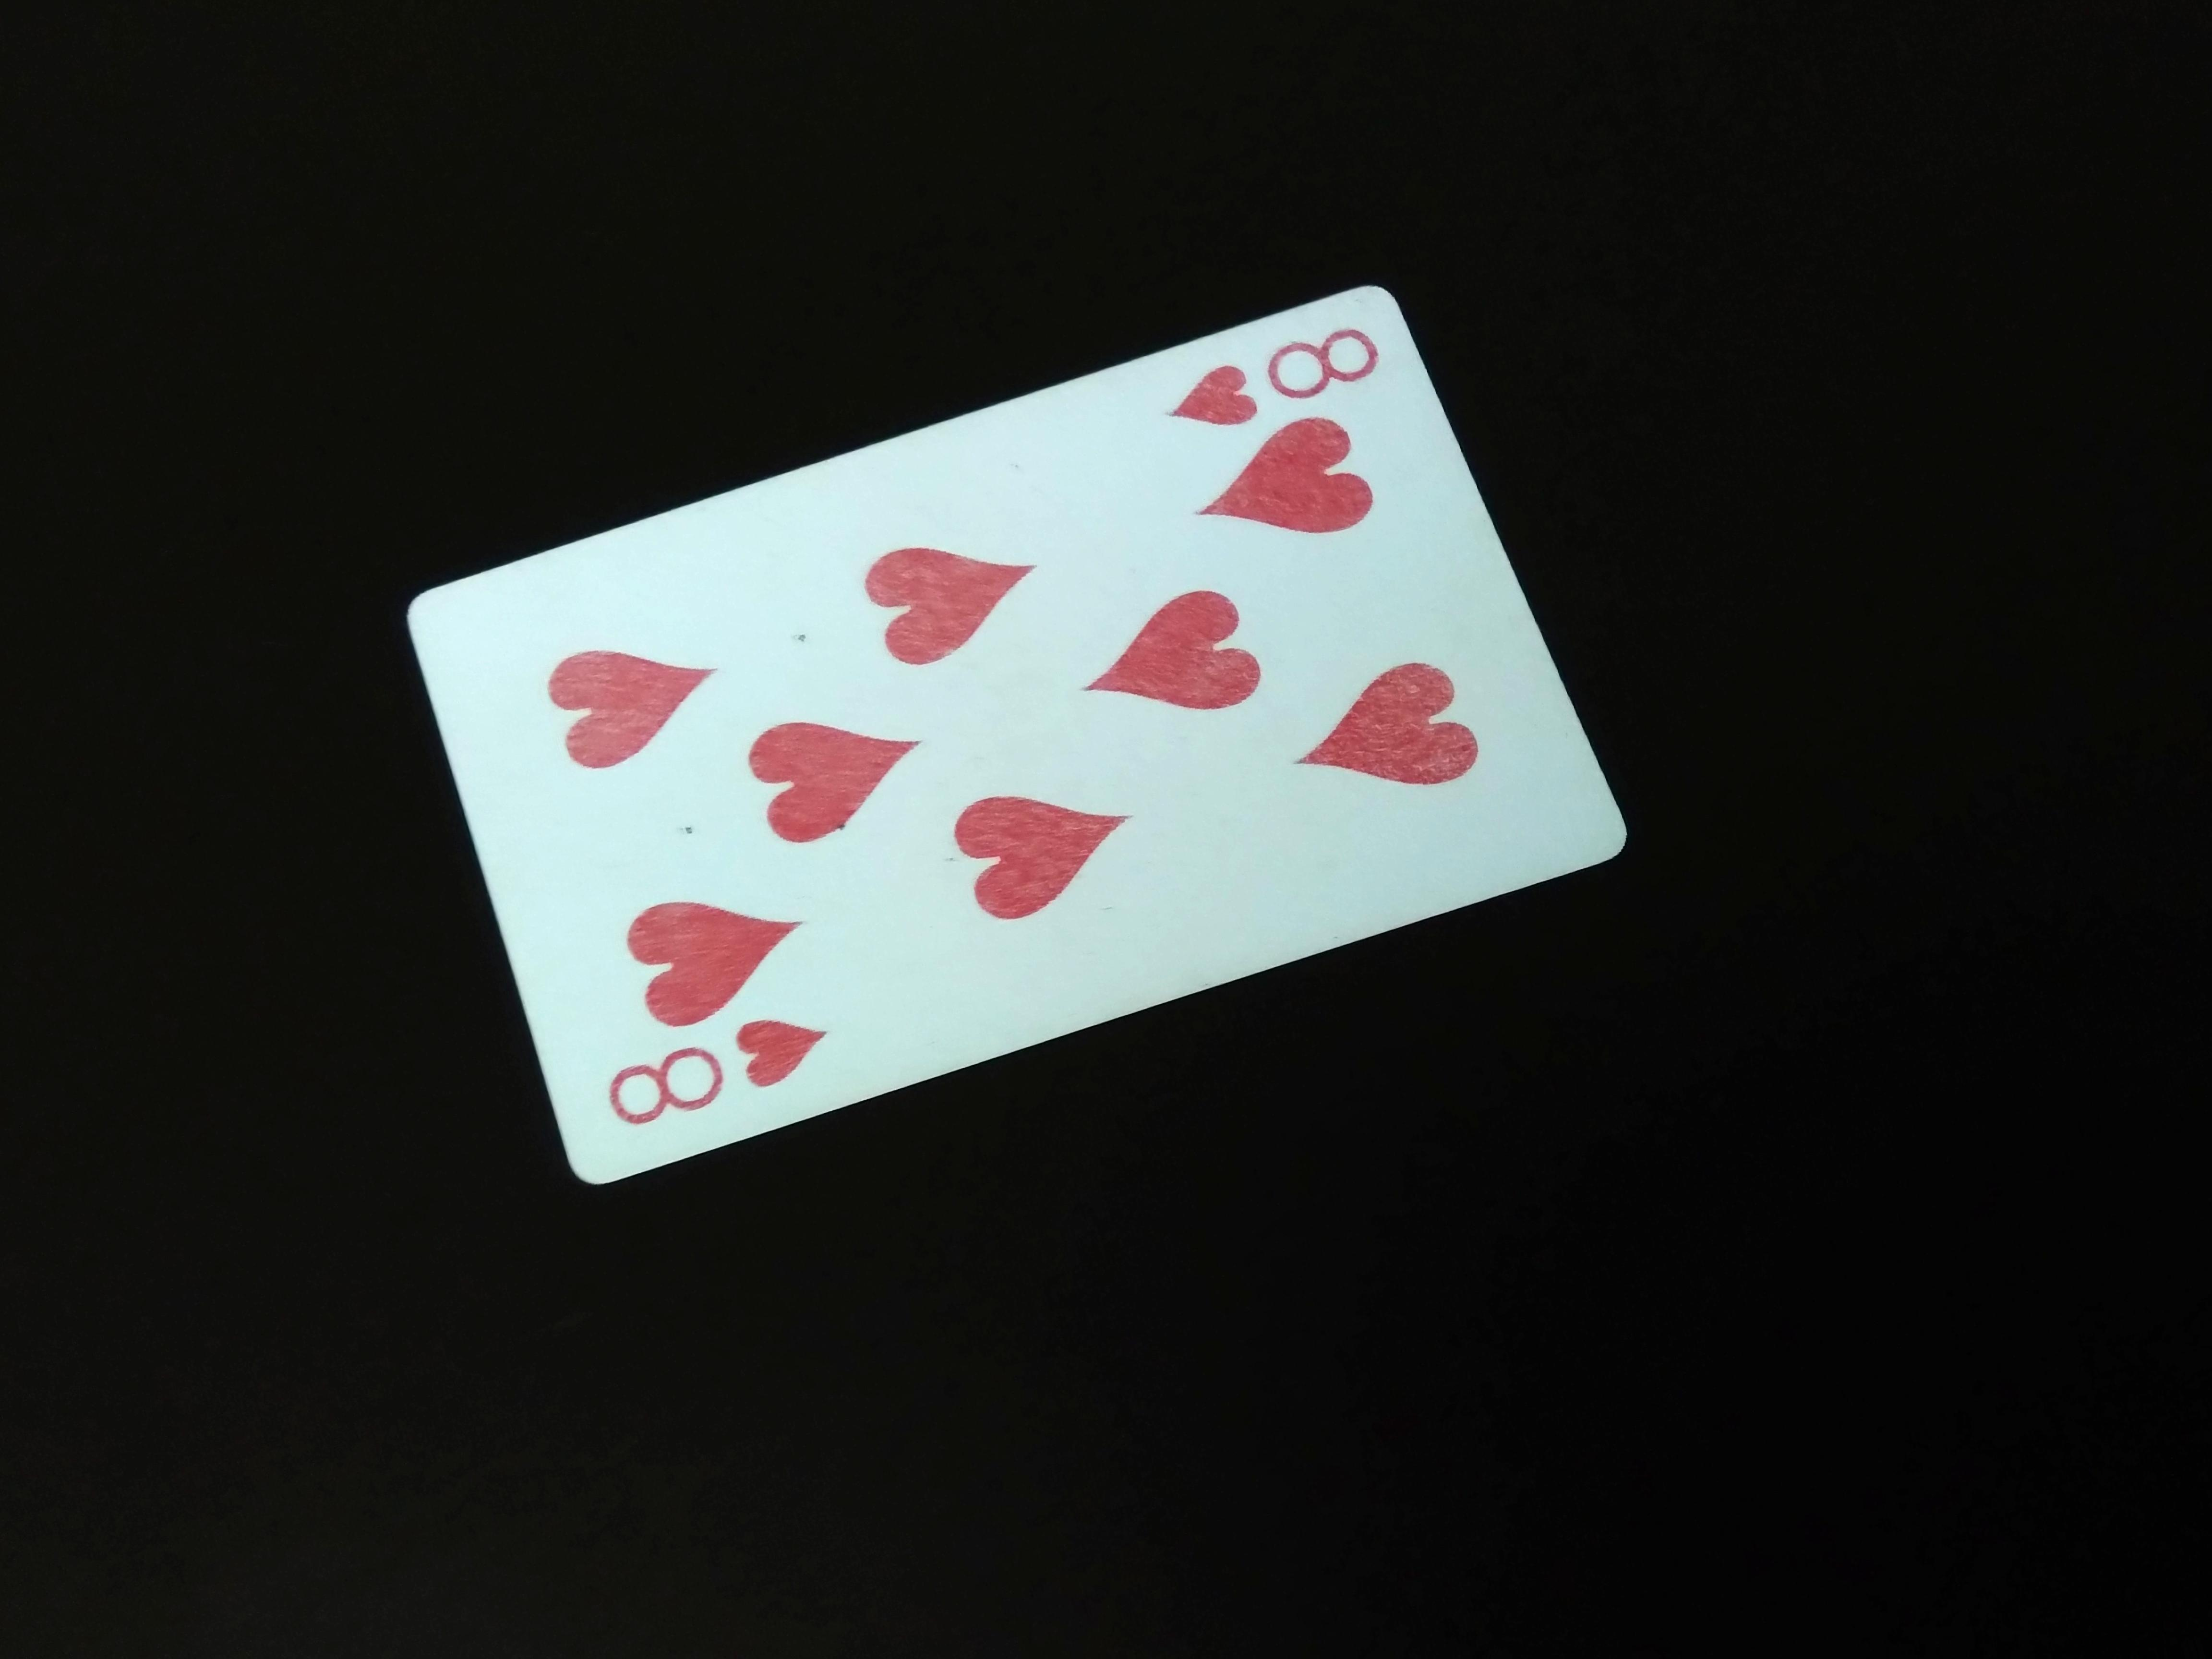8H: (1177, 296, 1381, 464)
